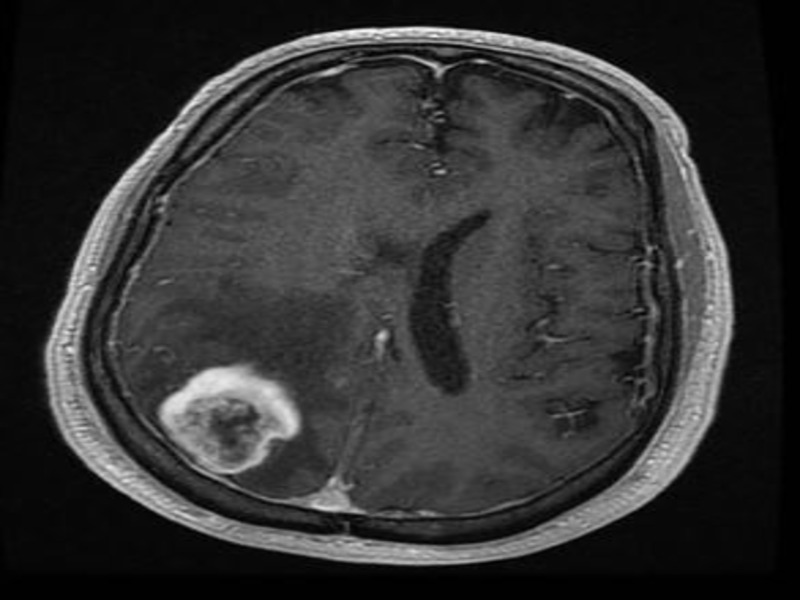tumor: (152, 358, 309, 484)
